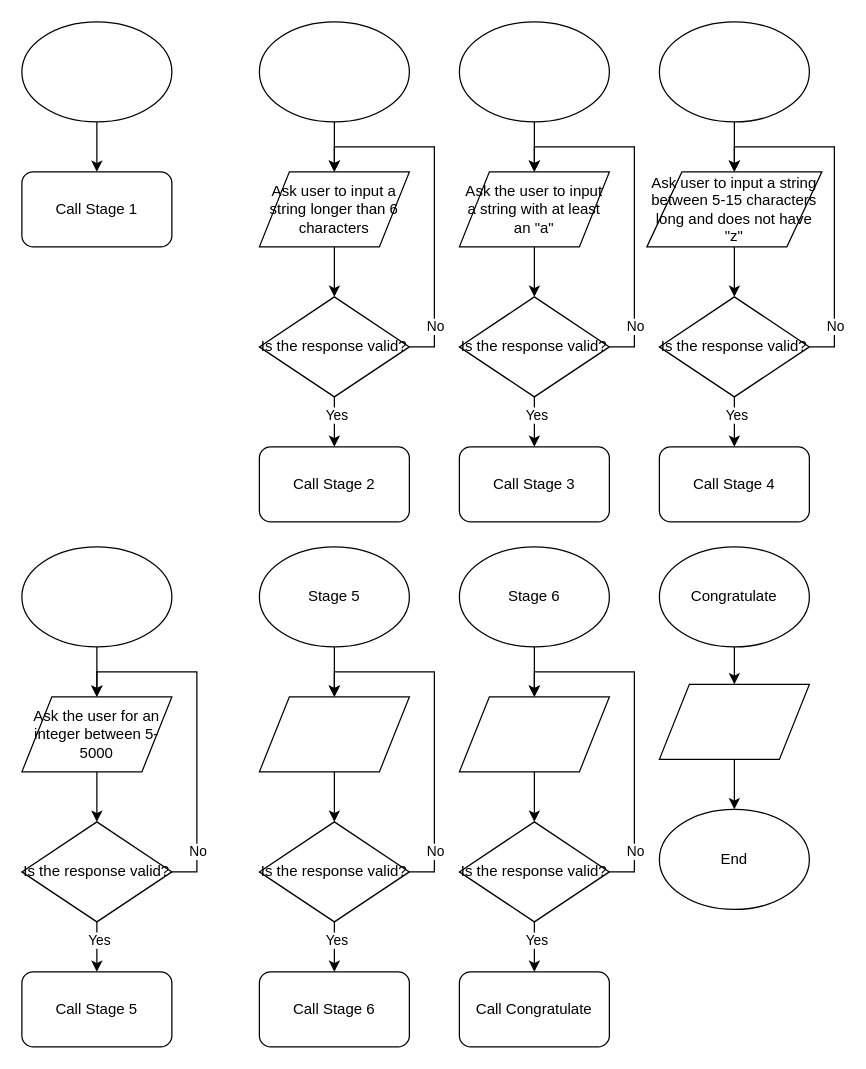
Image size: 866x1069. Some labels were removed from this diagram. Each missing label, with the centre of its shape:
"Ask the user for a negative integer" belongs at pixel 333 734.
"Ask the user for a positive odd integer" belongs at pixel 533 734.
"Congratulate User" belongs at pixel 733 721.
"Stage 1" belongs at pixel 333 71.
"Stage 2" belongs at pixel 533 71.
"Stage 3" belongs at pixel 733 71.
"Stage 4" belongs at pixel 96 596.
"Start" belongs at pixel 96 71.
